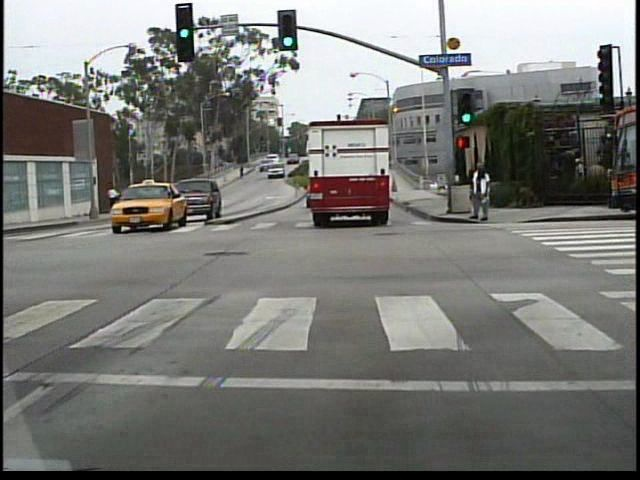person: (468, 163, 492, 222), (109, 184, 123, 204)
